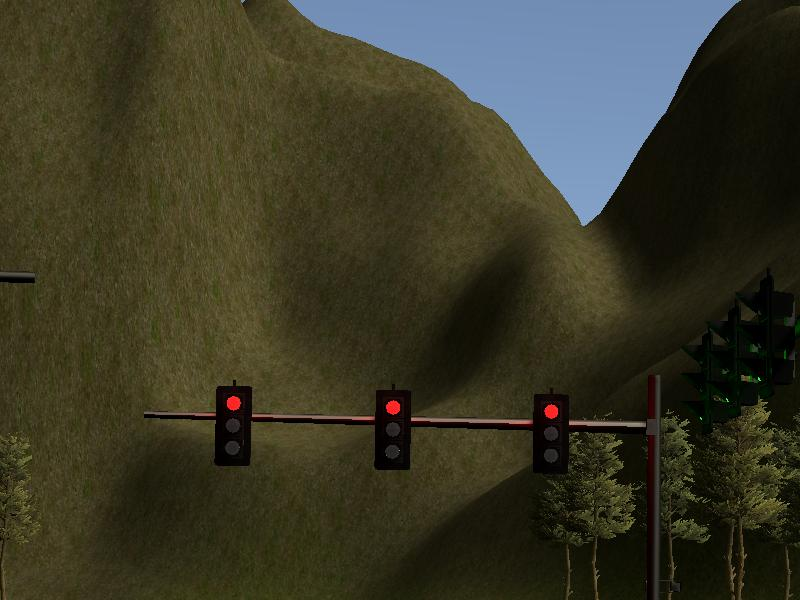Red: (533, 393, 567, 473), (375, 391, 409, 469), (218, 386, 251, 466)
